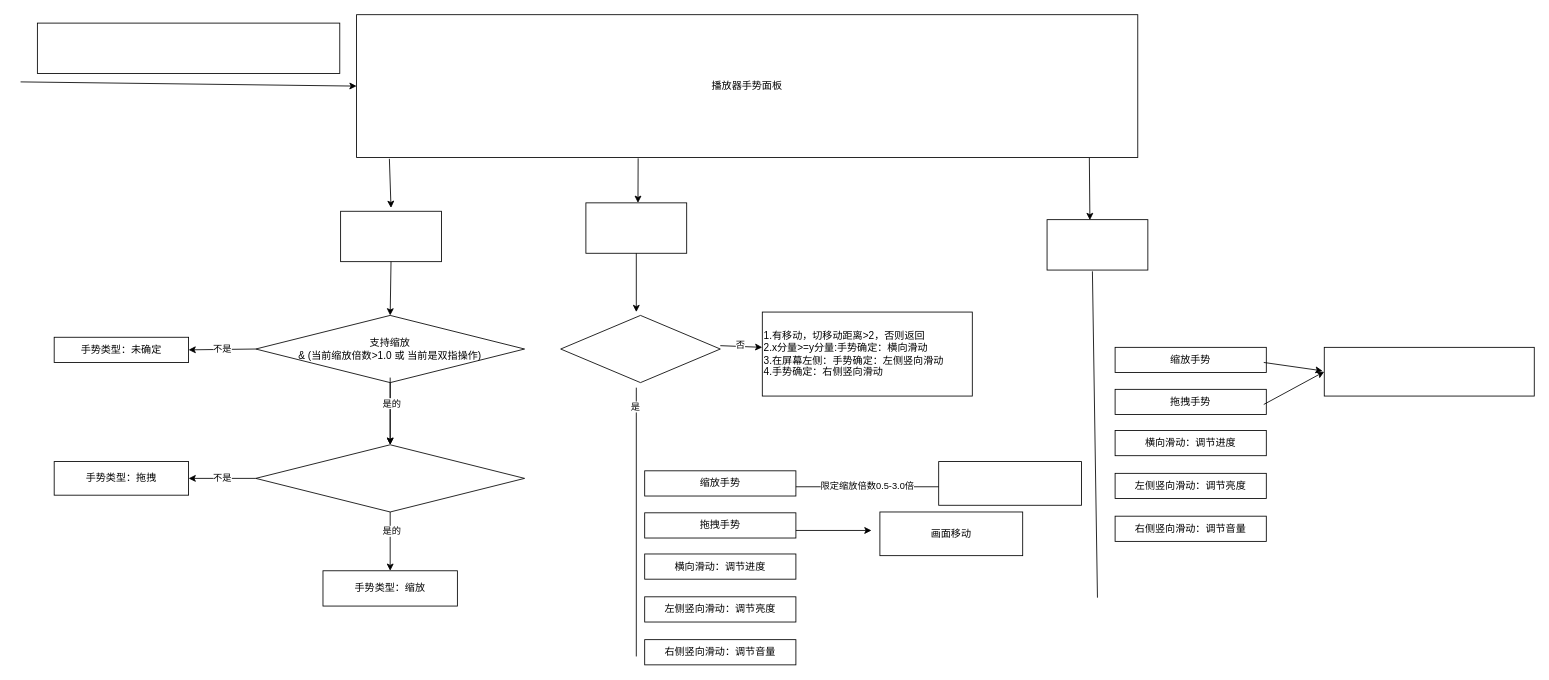
This 1549x680 diagram has some shape labels left out. The shapes that lost their labels are listed below. From the top down, each one's centre as x and y in pixels, then its label:
the point at 188,48: 切换播放任务/视频时读取shiply配置，是否支持缩放(默认支持) 绑定到数据源EduPlayerItem.isZoomable
the point at 390,236: 手势开始(回调一次)
the point at 636,227: 手势滑动(会回调很多次)
the point at 1097,244: 手势结束(回调一次)
the point at 640,349: 手势类型已确定
the point at 1428,371: 1.检测缩放倍数是否在1.0到3.0之间(<=1.1自动回1.0) 2.边缘检测是否播放区域在容器之内
the point at 390,478: 双指操作
the point at 1010,483: 画面以锚点位中心等比例放大
